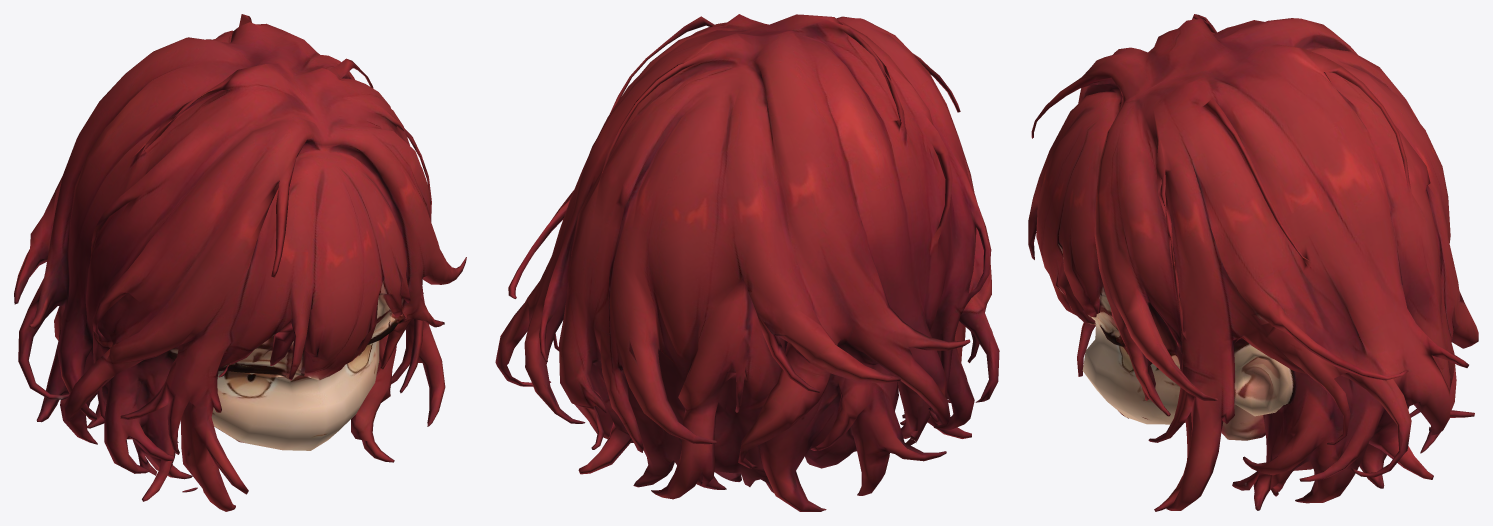
The picture shows the model from 3 angles, left to right: view 1: azimuth 30°, elevation 25°; view 2: azimuth 150°, elevation 25°; view 3: azimuth 270°, elevation 25°; orthographic projection. The views are drawn at different scales.
Visible parts, largest first — view 1: tripo_node_cb498a15-4d5b-4678-8a46-14d73634aba3; view 2: tripo_node_cb498a15-4d5b-4678-8a46-14d73634aba3; view 3: tripo_node_cb498a15-4d5b-4678-8a46-14d73634aba3.
Part boxes in pixels (bbox=[...]): tripo_node_cb498a15-4d5b-4678-8a46-14d73634aba3: bbox=[14, 14, 466, 511]; tripo_node_cb498a15-4d5b-4678-8a46-14d73634aba3: bbox=[495, 14, 999, 511]; tripo_node_cb498a15-4d5b-4678-8a46-14d73634aba3: bbox=[1028, 14, 1478, 511].
Size of the model in its own units: 0.9647 by 0.9246 by 0.8833.
Materials: 1 (1 with a texture image).
